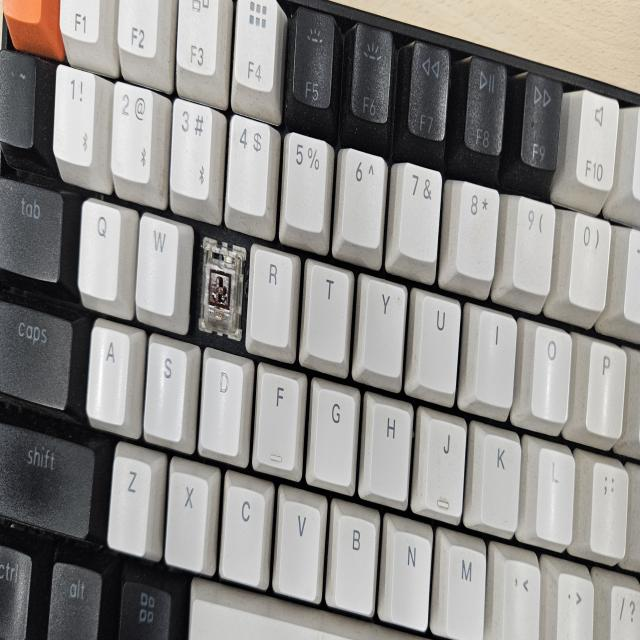C: (200, 252, 237, 328), (204, 254, 231, 320)
